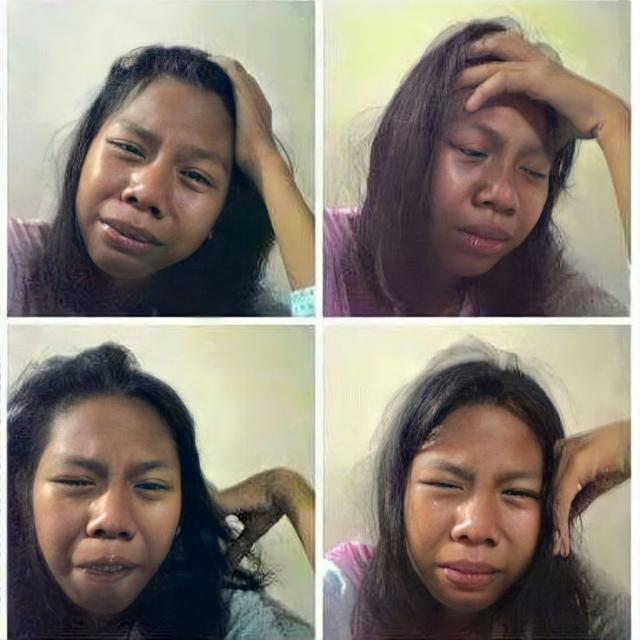sem_oculos: (394, 441, 566, 523), (92, 112, 240, 196), (426, 112, 556, 204), (30, 450, 206, 516)
